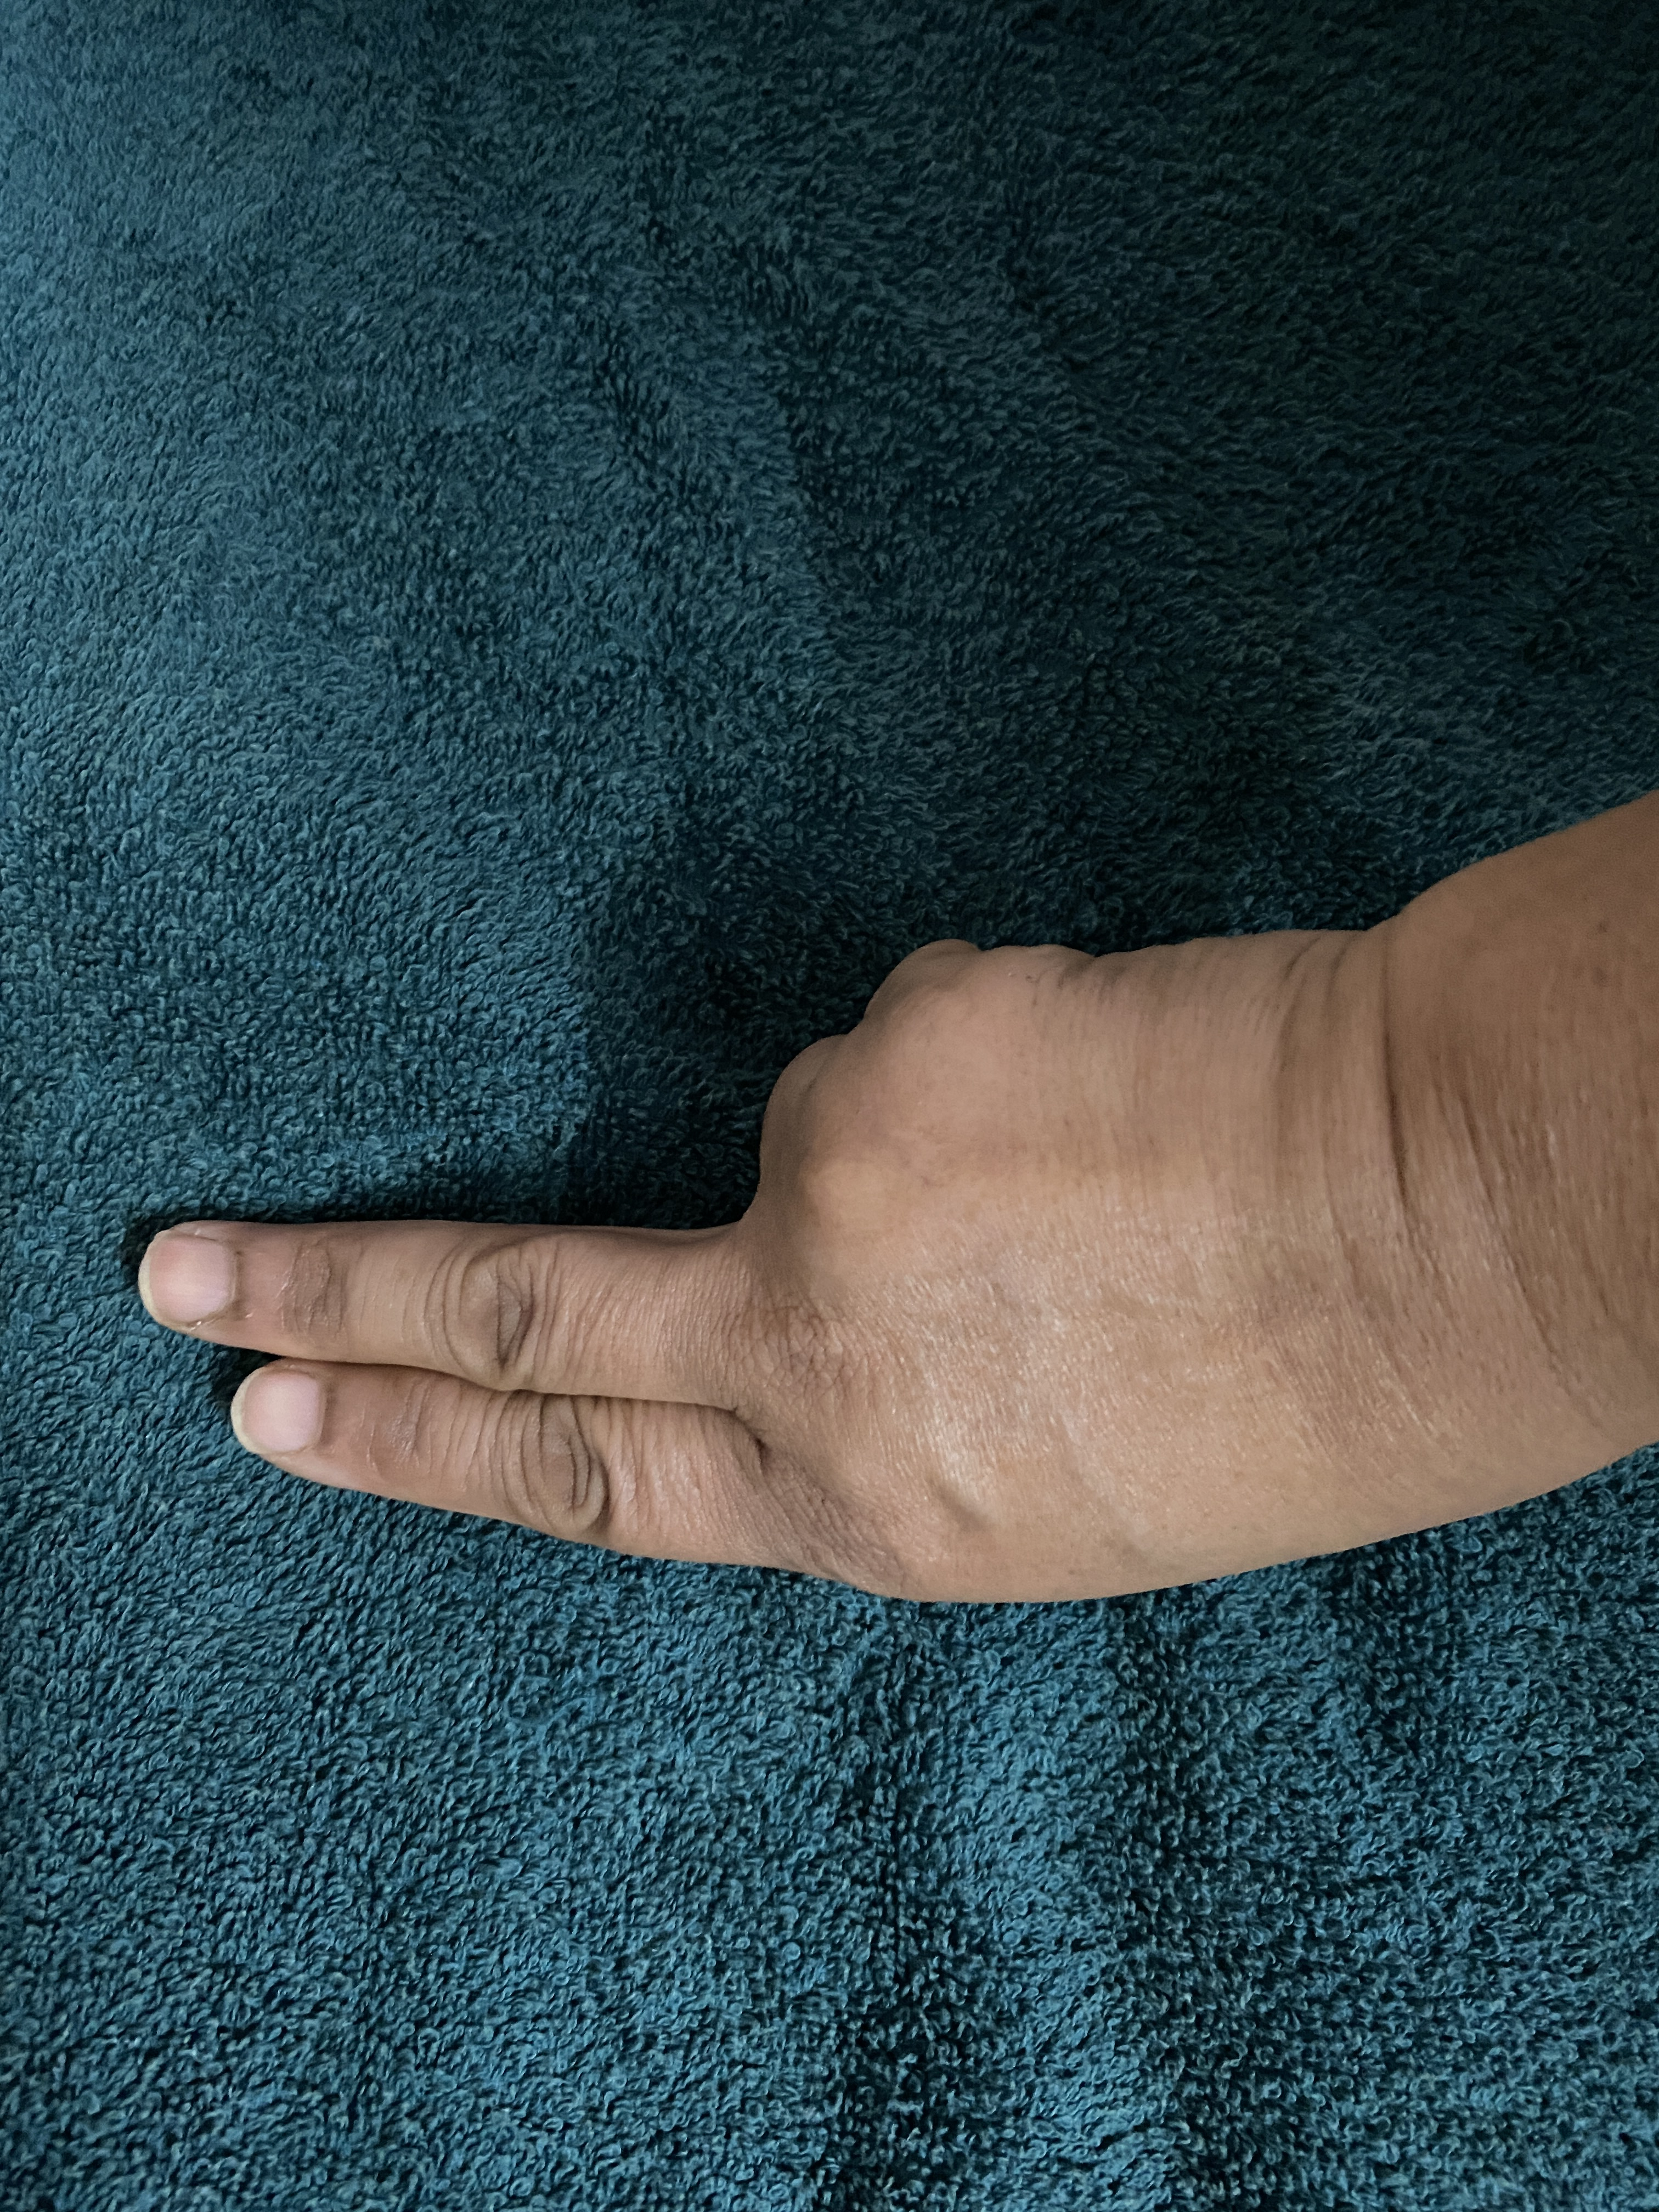right: (77, 726, 1659, 1770)
